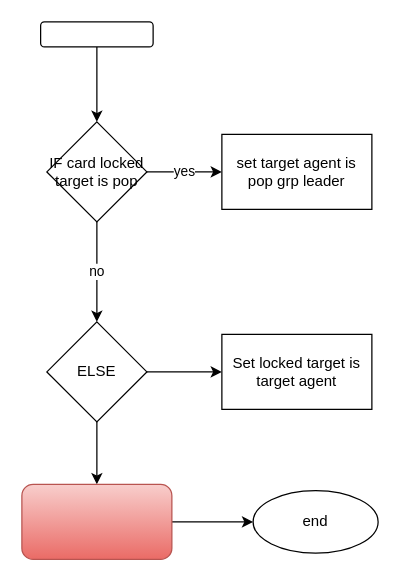
The diagram is 400 pixels wide and 581 high, and some of its shapes have lost their labels. The box of each missing label's shape, as (x1, y1, x2, y2) in pixels:
call addAttacking AgentId: (21, 483, 172, 559)
start: (39, 21, 153, 47)
